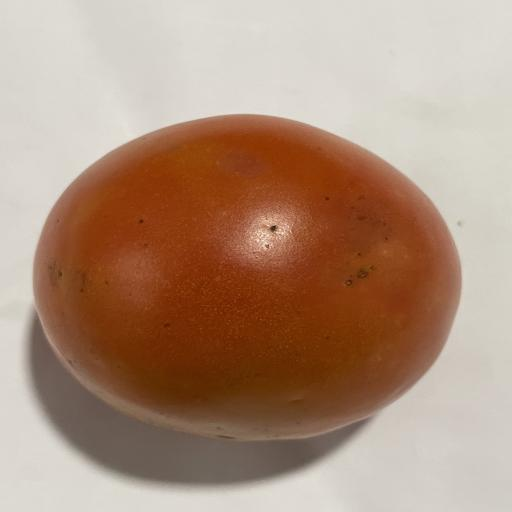ripe: (34, 115, 461, 441)
